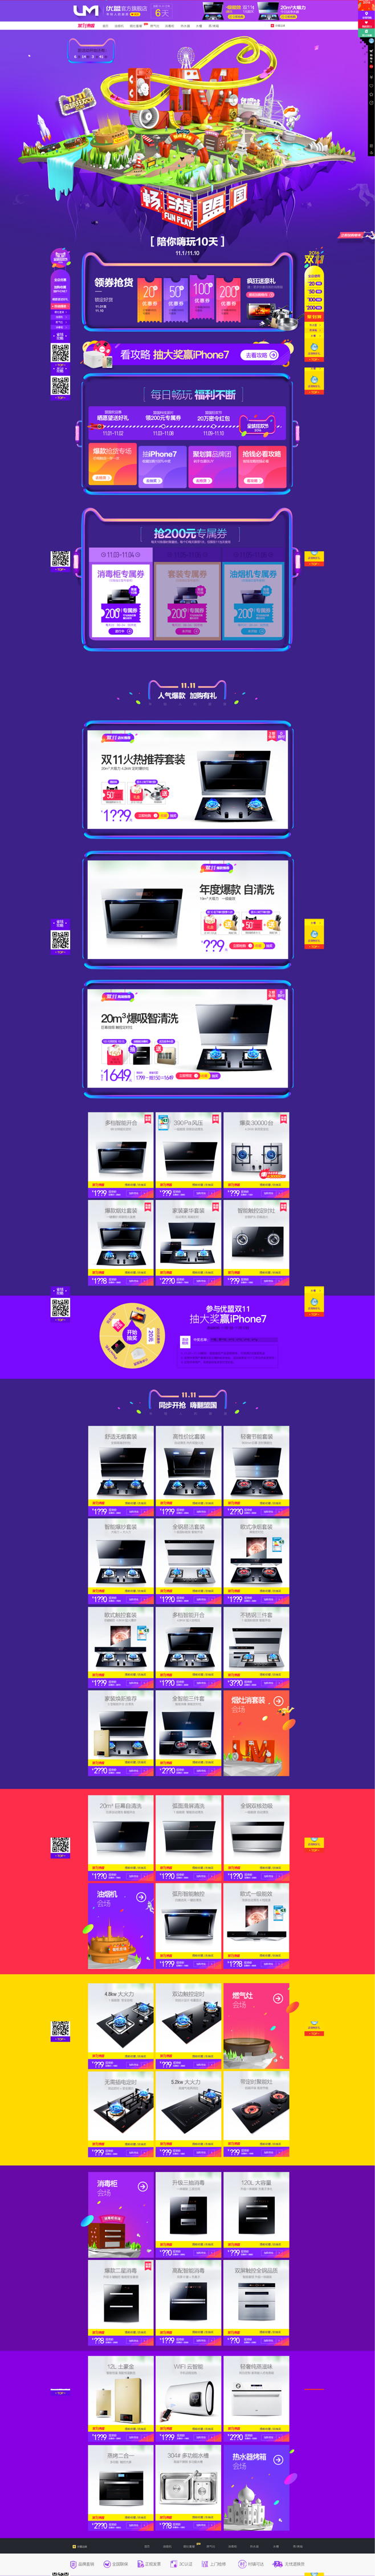floors: (79, 675, 296, 1288), (85, 1387, 298, 1781), (87, 2354, 295, 2535), (85, 1980, 291, 2160), (87, 2169, 293, 2349), (85, 1794, 295, 1971), (72, 504, 303, 655), (74, 371, 306, 496), (77, 235, 301, 332)
toutu: (0, 31, 375, 233)
